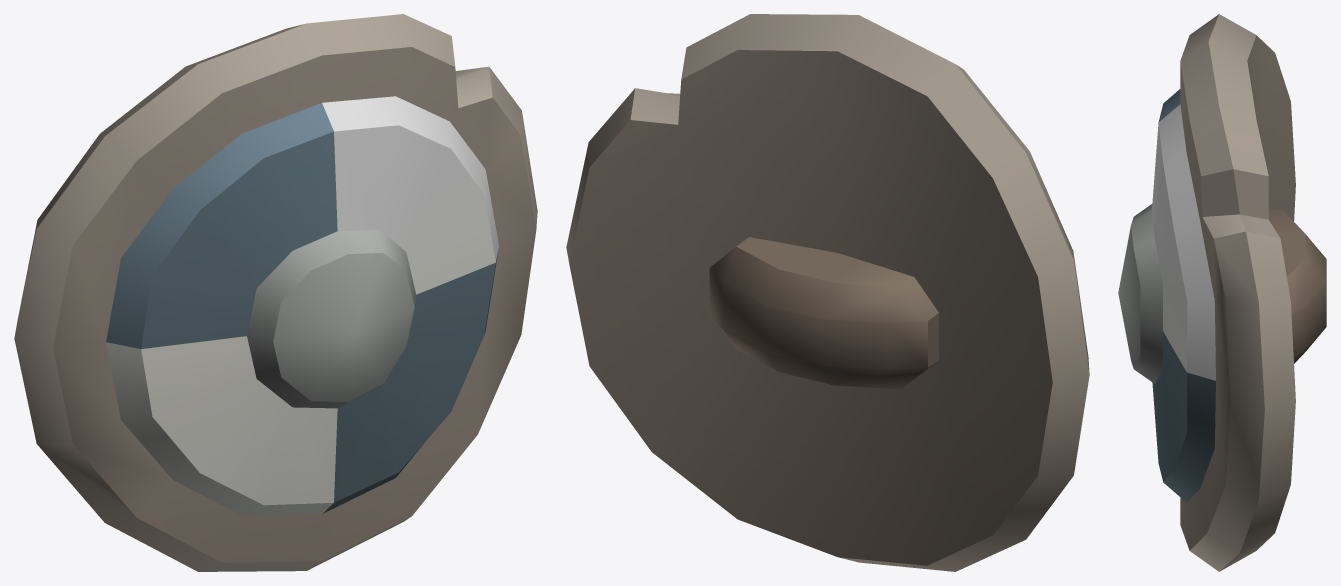
File: shield_round_barbarian.glb
3 renders of one model, left to right at view 1: azimuth 30°, elevation 25°; view 2: azimuth 150°, elevation 25°; view 3: azimuth 270°, elevation 25°, orthographic. The views are drawn at different scales.
Parts seen in each view (by area): view 1: shield_round_barbarian; view 2: shield_round_barbarian; view 3: shield_round_barbarian.
Boxes of the visible parts, box(x1,y1,x2,y2) form: shield_round_barbarian: box(14, 14, 537, 571); shield_round_barbarian: box(566, 14, 1089, 571); shield_round_barbarian: box(1118, 14, 1326, 571).
Bounding box in the file's own units: 0.65 × 0.65 × 0.2445.
Materials: 1 (1 with a texture image).
